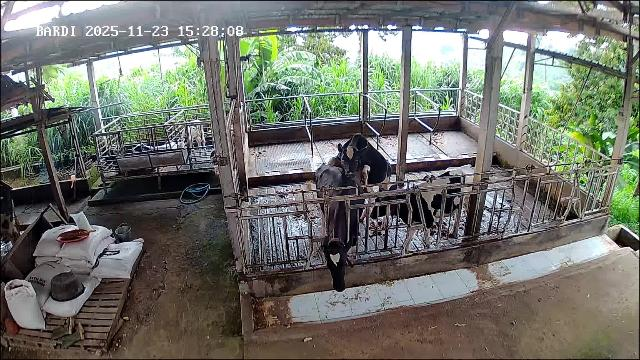mounting: (326, 134, 394, 221)
